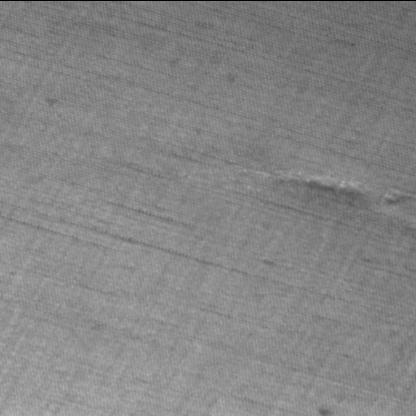thread error: (248, 166, 413, 210)
